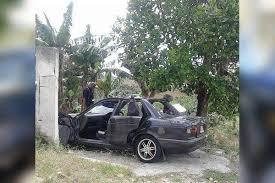doorouter-dent: (112, 106, 142, 138)
